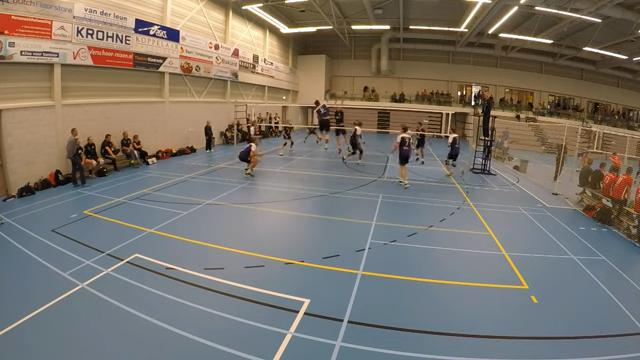attacco: (309, 94, 332, 150)
